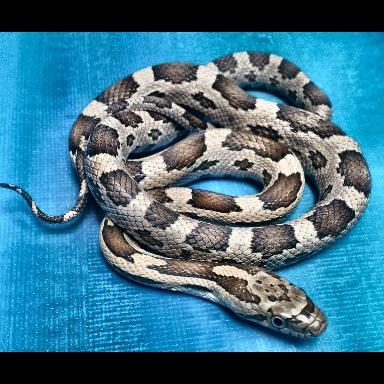snake: (12, 52, 372, 341)
